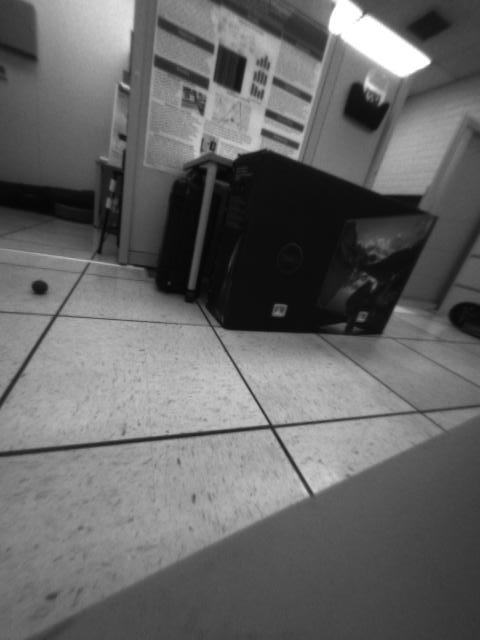dogtoy: (25, 272, 56, 298)
